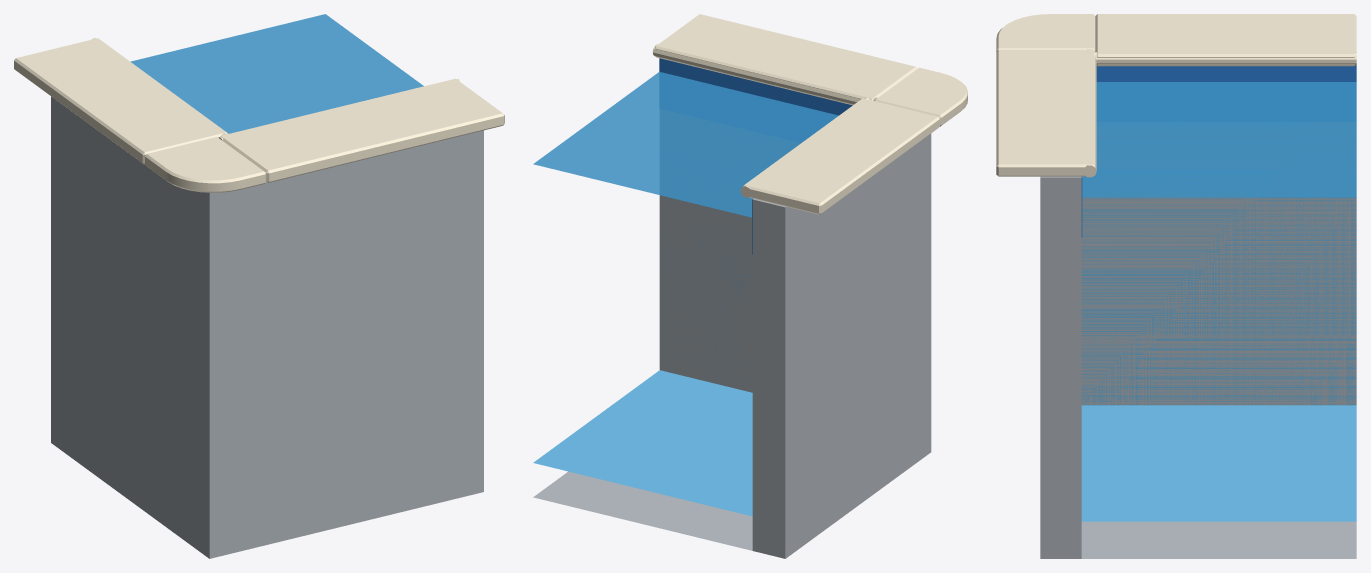
Rendered from piscina_canto.glb.
3 views of the same model, side by side, from view 1: azimuth 30°, elevation 25°; view 2: azimuth 150°, elevation 25°; view 3: azimuth 270°, elevation 25° (orthographic). The views are drawn at different scales.
Parts seen in each view (by area): view 1: piscina_canto; view 2: piscina_canto; view 3: piscina_canto.
Boxes of the visible parts, x1,y1,x2,y2 form: piscina_canto: [14, 14, 504, 558]; piscina_canto: [533, 14, 967, 558]; piscina_canto: [996, 14, 1356, 558].
Bounding box in the file's own units: 1.31 × 1.58 × 1.31.
Materials: 3 (1 with a texture image).
